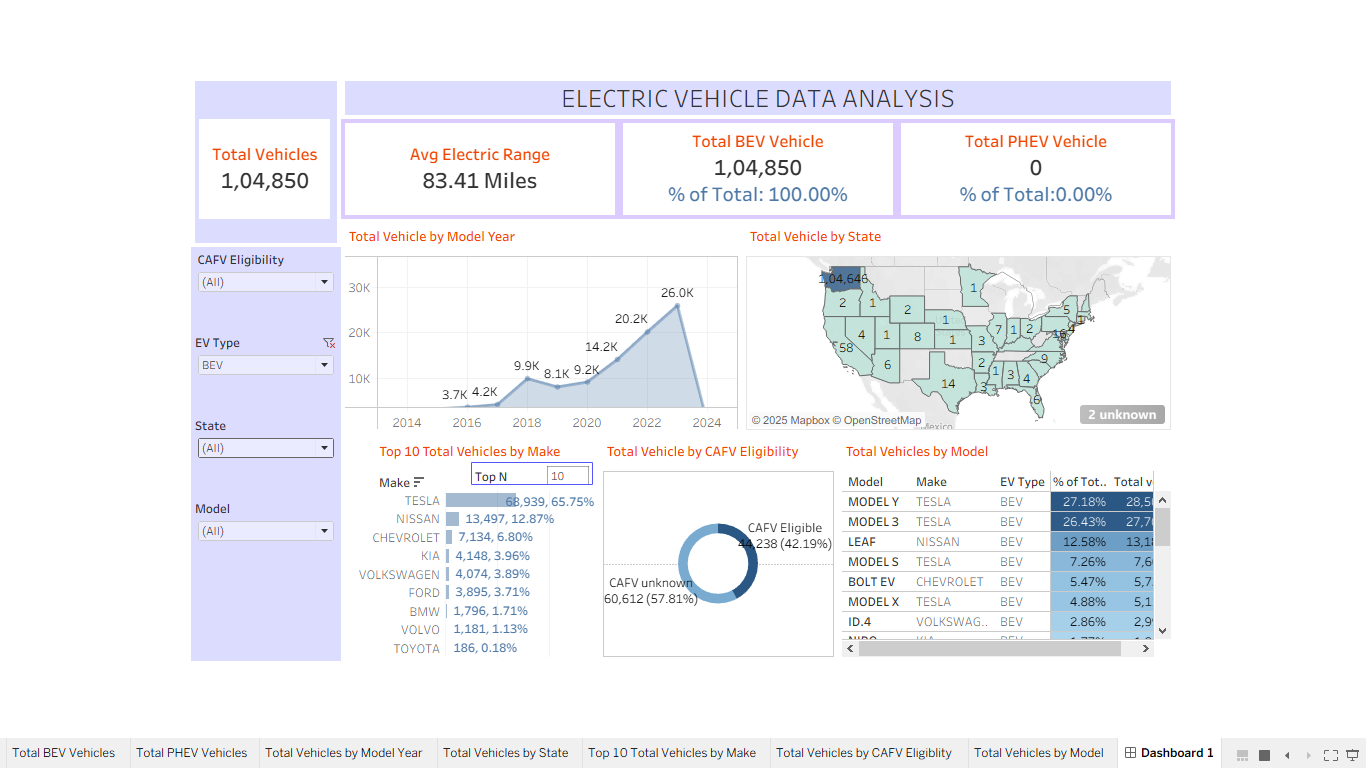

The dashboard page shown, as its layout file describes it:
{"tool":"tableau","page":{"name":"Dashboard 1","canvas":[1000,600],"ordinal":0},"visuals":[{"type":"blank","box":[8,8,150,170]},{"type":"title","box":[158,8,834,42]},{"type":"worksheet","title":"Total vehicles","mark":"Automatic","box":[16,50,131,100]},{"type":"worksheet","title":"Avg Electric Range","mark":"Automatic","box":[158,50,278,100]},{"type":"worksheet","title":"Total BEV Vehicles ","mark":"Automatic","box":[436,50,278,100]},{"type":"worksheet","title":"Total PHEV Vehicles","mark":"Automatic","box":[714,50,278,100]},{"type":"worksheet","title":"Total Vehicles by Model Year","mark":"Area","rows":["Calculation_0176762912473088","Calculation_0176762912473088"],"cols":["Model Year"],"box":[158,150,401,215]},{"type":"worksheet","title":"Total Vehicles by State","mark":"Multipolygon","box":[559,150,433,215]},{"type":"filter","title":"Total Vehicles by Model Year","param":"[federated.0oigpqj1t7se8y17l5w80157g0qz].[Action (Clean Alternative Fuel Vehicle","box":[8,178,150,83]},{"type":"filter","title":"Total Vehicles by Model Year","param":"[federated.0oigpqj1t7se8y17l5w80157g0qz].[none:Electric Vehicle Type:nk]","box":[8,261,150,83]},{"type":"filter","title":"Total Vehicles by Model Year","param":"[federated.0oigpqj1t7se8y17l5w80157g0qz].[none:State:nk]","box":[8,344,150,83]},{"type":"worksheet","title":"Top 10 Total Vehicles by Make","mark":"Bar","rows":["Make"],"cols":["Calculation_0176762912473088"],"box":[158,365,258,227]},{"type":"worksheet","title":"Total Vehicles by CAFV Eligiblity","mark":"Pie","rows":["Calculation_0176762946252810","Calculation_0176762946252810"],"box":[416,365,239,227]},{"type":"worksheet","title":"Total Vehicles by Model","mark":"Square","rows":["Model","Make","Electric Vehicle Type"],"box":[655,365,337,227]},{"type":"parameter","param":"[Parameters].[Parameter 1]","box":[288,393,122,23]},{"type":"filter","title":"Top 10 Total Vehicles by Make","param":"[federated.0oigpqj1t7se8y17l5w80157g0qz].[none:Model:nk]","box":[8,427,150,83]},{"type":"blank","box":[8,510,150,82]}]}

Visuals, with their boxes on the page's 1000x600 design canvas (x1, y1, x2, y2). These are canvas units, not pixel positions in the 1366x768 screenshot, which may show the page scaled, cropped or inside an application window:
blank: (8, 8, 158, 178)
title: (158, 8, 992, 50)
"Total vehicles" worksheet: (16, 50, 147, 150)
"Avg Electric Range" worksheet: (158, 50, 436, 150)
"Total BEV Vehicles " worksheet: (436, 50, 714, 150)
"Total PHEV Vehicles" worksheet: (714, 50, 992, 150)
"Total Vehicles by Model Year" worksheet (Area marks): (158, 150, 559, 365)
"Total Vehicles by State" worksheet (Multipolygon marks): (559, 150, 992, 365)
"Total Vehicles by Model Year" filter: (8, 178, 158, 261)
"Total Vehicles by Model Year" filter: (8, 261, 158, 344)
"Total Vehicles by Model Year" filter: (8, 344, 158, 427)
"Top 10 Total Vehicles by Make" worksheet (Bar marks): (158, 365, 416, 592)
"Total Vehicles by CAFV Eligiblity" worksheet (Pie marks): (416, 365, 655, 592)
"Total Vehicles by Model" worksheet (Square marks): (655, 365, 992, 592)
parameter: (288, 393, 410, 416)
"Top 10 Total Vehicles by Make" filter: (8, 427, 158, 510)
blank: (8, 510, 158, 592)
